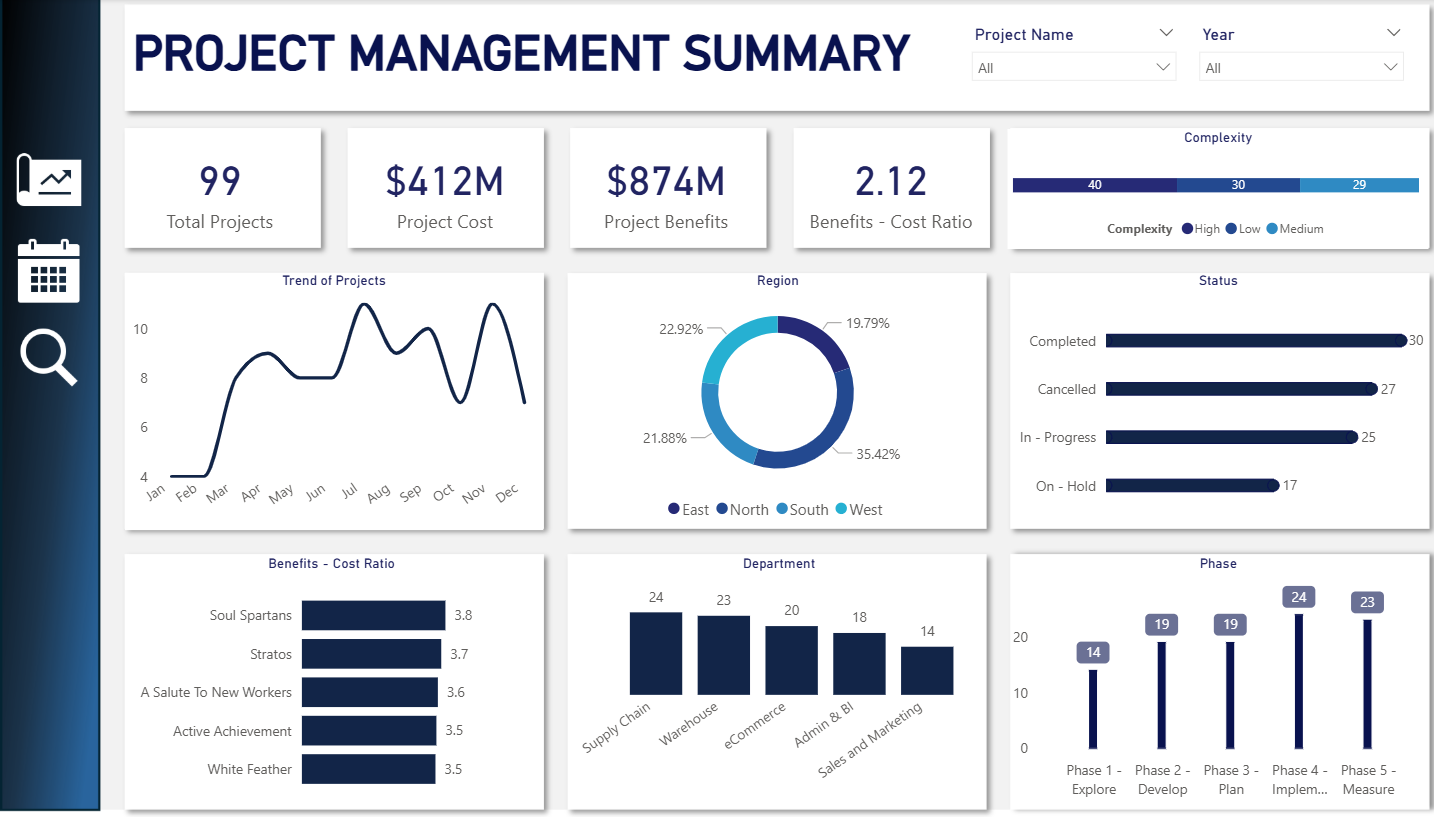

The dashboard page shown, as its layout file describes it:
{"tool":"powerbi","page":{"name":"Summary","canvas":[1280,720],"ordinal":0},"visuals":[{"type":"card","fields":{"Values":["_Measures.Total Projects"]},"box":[108.2,114,171.7,105.3],"z":0},{"type":"card","fields":{"Values":["_Measures.Project Cost"]},"box":[305.9,114,171.7,105.3],"z":1},{"type":"card","fields":{"Values":["_Measures.Project Benefits"]},"box":[500.6,114,171.7,105.3],"z":2},{"type":"card","fields":{"Values":["_Measures.Benefits - Cost Ratio"]},"box":[698.3,114,171.7,105.3],"z":3},{"type":"barChart","title":"Complexity","fields":{"Y":["_Measures.Total Projects"],"Series":["Data.Complexity"]},"box":[885.9,114,370.8,105.3],"z":4},{"type":"lineChart","title":"Trend of Projects","fields":{"Category":["Date Table.Month Name"],"Y":["_Measures.Total Projects"]},"box":[109.6,240.9,367.9,226.5],"z":5},{"type":"donutChart","title":"Region","fields":{"Y":["_Measures.Total Projects"],"Series":["Data.Region"]},"box":[500.6,240.9,367.9,226.5],"z":6},{"type":"barChart","title":"Benefits - Cost Ratio","fields":{"Y":["_Measures.Benefits - Cost Ratio"],"Category":["Data.Project Name"]},"box":[108.2,489.1,367.9,220.7],"z":7},{"type":"columnChart","title":"Department","fields":{"Y":["_Measures.Total Projects"],"Category":["Data.Department"]},"box":[501,489,368,221],"z":8},{"type":"barChart","title":"Status","fields":{"Category":["Data.Status"],"Y":["_Measures.Total Projects"]},"box":[886,241,371,227],"z":9},{"type":"columnChart","title":"Phase","fields":{"Y":["_Measures.Total Projects"],"Category":["Data.Phase"]},"box":[886,489,371,221],"z":10},{"type":"slicer","fields":{"Values":["Data.Project Name"]},"box":[844,17.3,200.5,63.5],"z":11},{"type":"slicer","fields":{"Values":["Date Table.Year"]},"box":[1044.6,17.3,200.5,63.5],"z":12},{"type":"textbox","box":[109.6,17.3,698.3,80.8],"z":13},{"type":"image","box":[10.1,125.5,66.4,73.6],"z":14},{"type":"image","box":[8.7,199.1,67.8,82.2],"z":15},{"type":"image","box":[8.7,275.6,67.8,79.4],"z":16}]}

Visuals, with their boxes in screenshot pixels (x1, y1, x2, y2), scaled from the page's 1280x720 canvas onto the 1434x817 screenshot:
card - _Measures.Total Projects: l=121, t=129, r=314, b=249
card - _Measures.Project Cost: l=343, t=129, r=535, b=249
card - _Measures.Project Benefits: l=561, t=129, r=753, b=249
card - _Measures.Benefits - Cost Ratio: l=782, t=129, r=975, b=249
"Complexity" barChart: l=992, t=129, r=1408, b=249
"Trend of Projects" lineChart: l=123, t=273, r=535, b=530
"Region" donutChart: l=561, t=273, r=973, b=530
"Benefits - Cost Ratio" barChart: l=121, t=555, r=533, b=805
"Department" columnChart: l=561, t=555, r=974, b=806
"Status" barChart: l=993, t=273, r=1408, b=531
"Phase" columnChart: l=993, t=555, r=1408, b=806
slicer - Data.Project Name: l=946, t=20, r=1170, b=92
slicer - Date Table.Year: l=1170, t=20, r=1395, b=92
textbox: l=123, t=20, r=905, b=111
image: l=11, t=142, r=86, b=226
image: l=10, t=226, r=86, b=319
image: l=10, t=313, r=86, b=403
